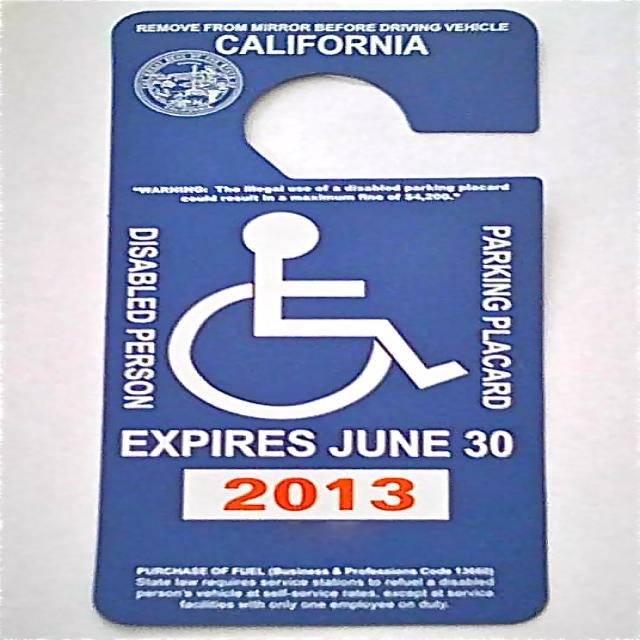symbol_of_access: (159, 211, 477, 415)
